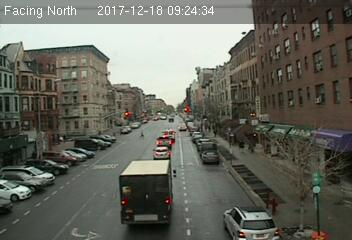car: (222, 204, 278, 240), (153, 146, 169, 159), (202, 150, 217, 163), (156, 136, 171, 147)
ups: (117, 158, 179, 228)
